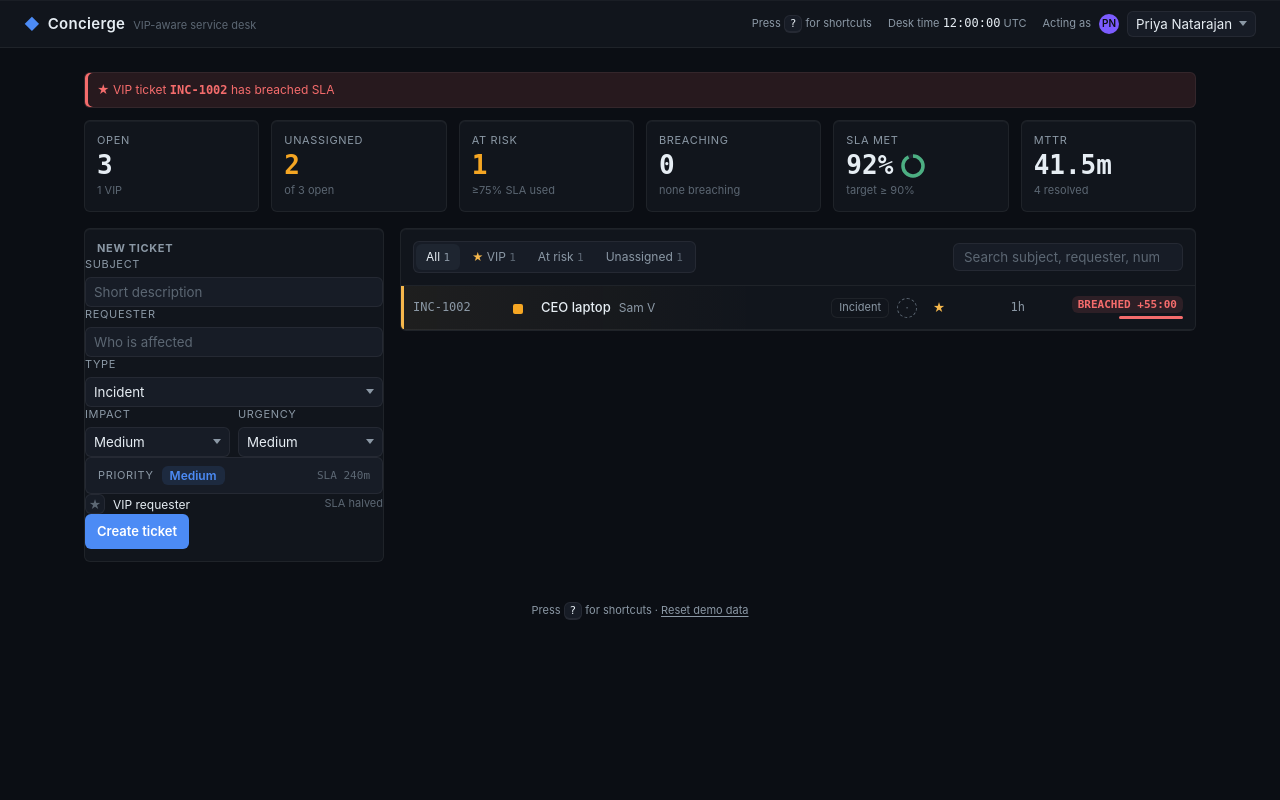
Test: clicking the VIP banner scrolls to the row, selects it, and opens the drawer
The width and height of the screenshot is (1280, 800).
Expected: the text "CEO laptop" is shown, x1=541 y1=298 x2=611 y2=317
Click the button "★ VIP ticket INC-1002 has breached SLA" at (133, 90), box x1=84 y1=72 x2=1196 y2=108
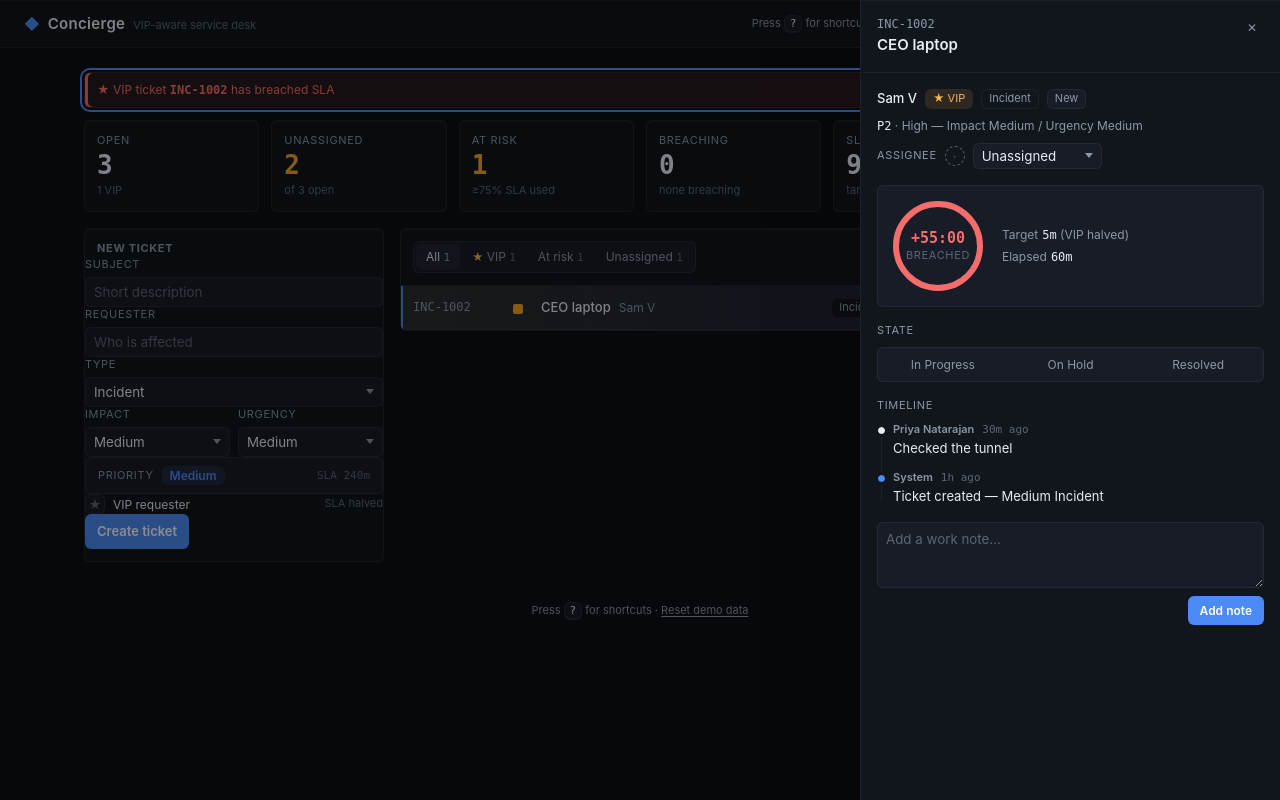
Now the text "INC-1002" is shown, box x1=877 y1=17 x2=935 y2=31
